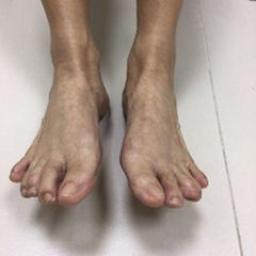Front View -Both Feet-: (6, 10, 214, 220)
